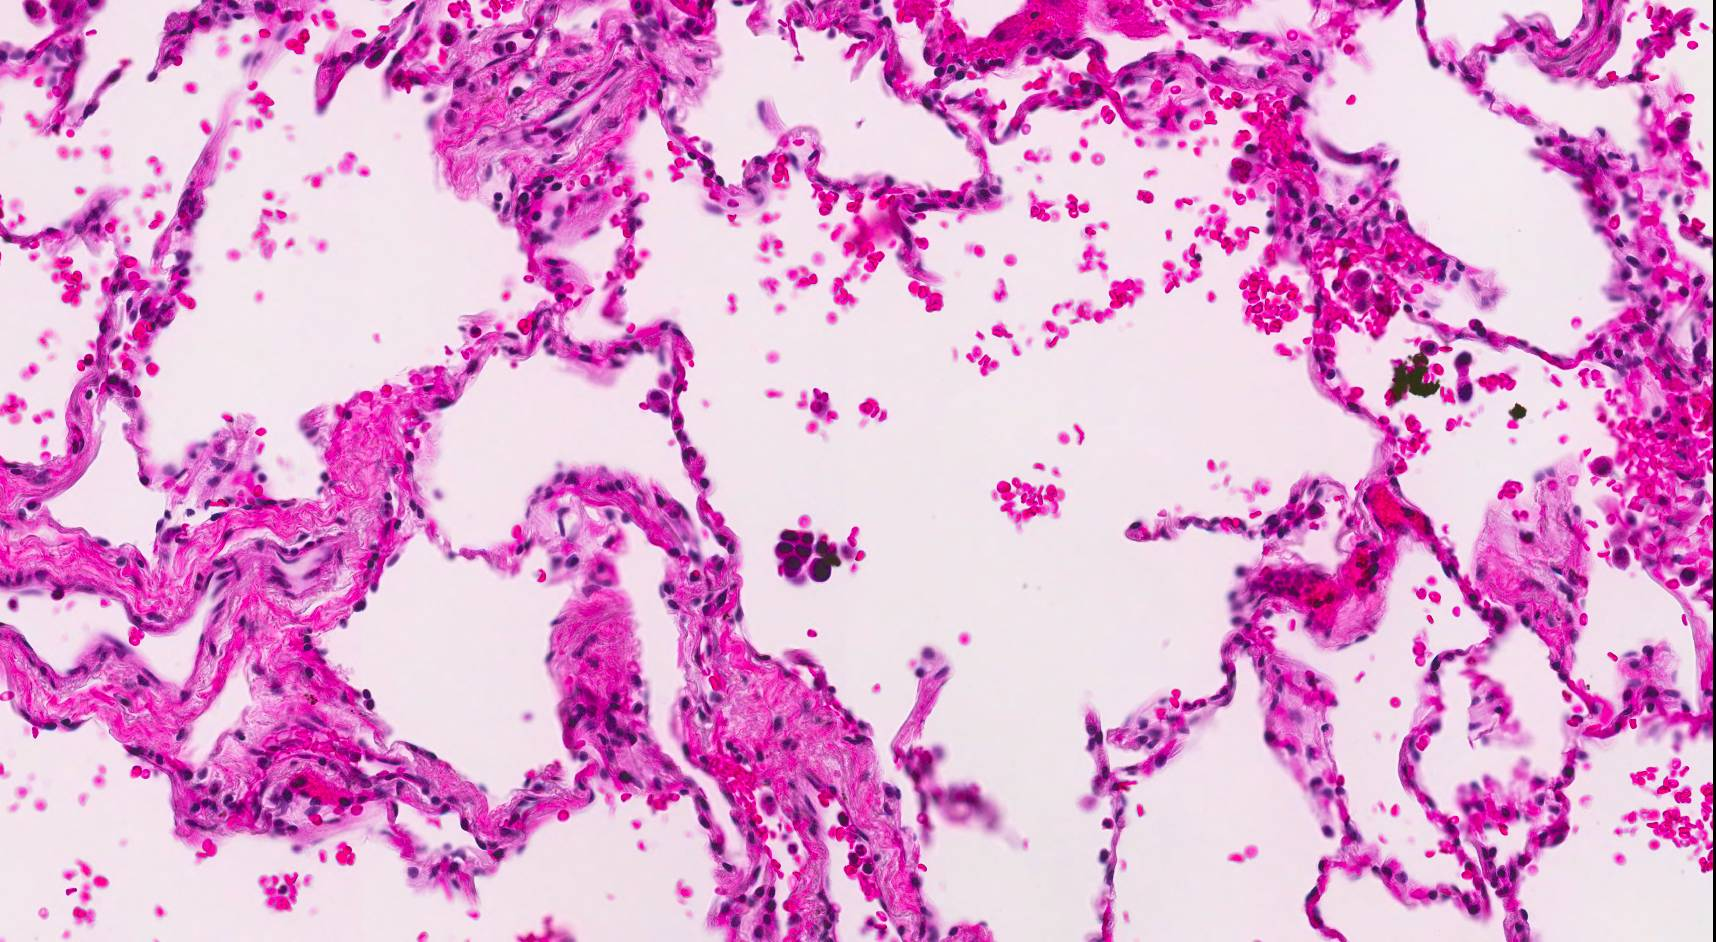stas: (769, 525, 846, 583)
